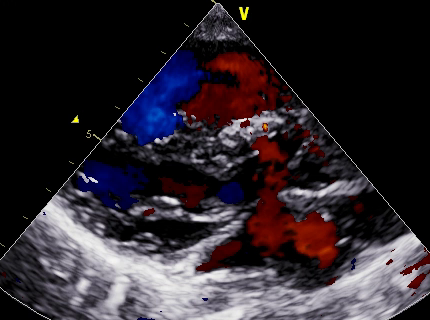AR: (213, 150, 305, 214)
